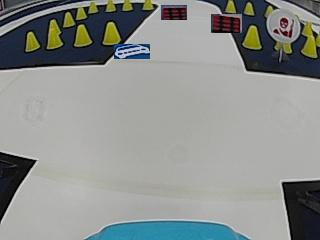evil: (266, 8, 299, 42)
